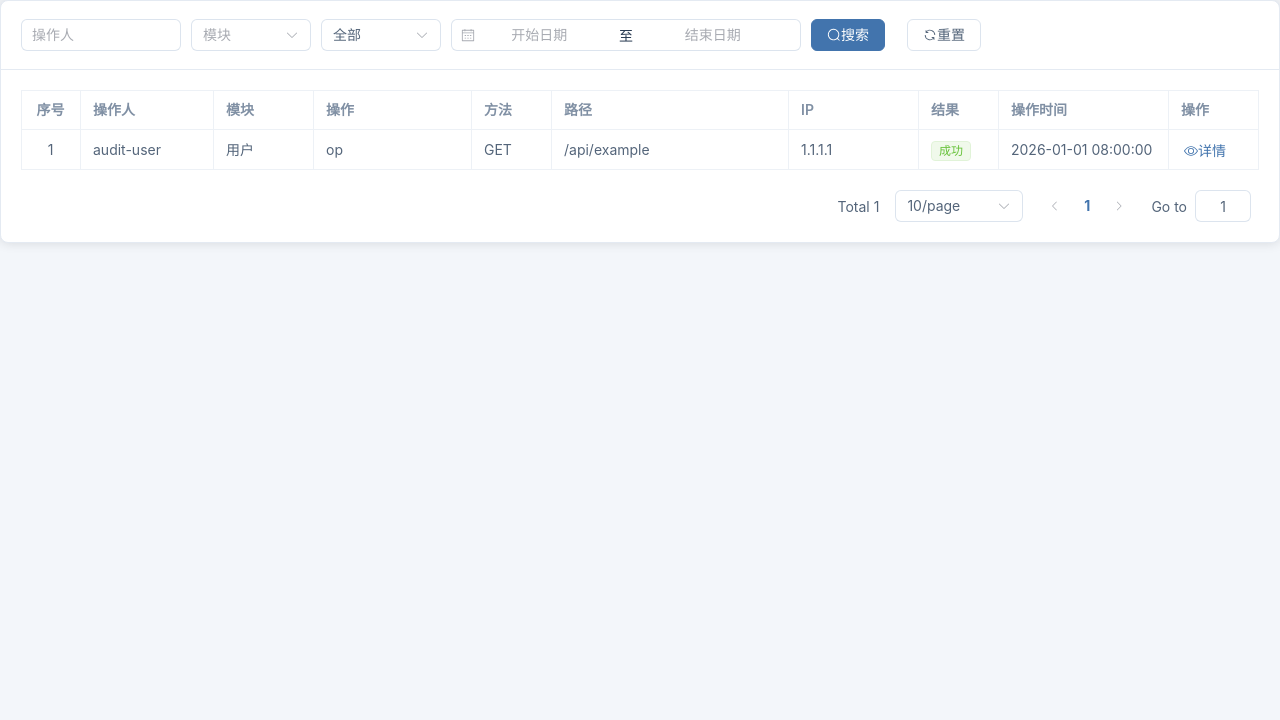
Scenario: OperationLog › 加载日志并在详情中显示具体 trace
What coordinates should you click on to do the following:
click the button "详情"
I would click on:
 (1205, 151)
Its box is [1181, 141, 1229, 161].
(page scrolled)
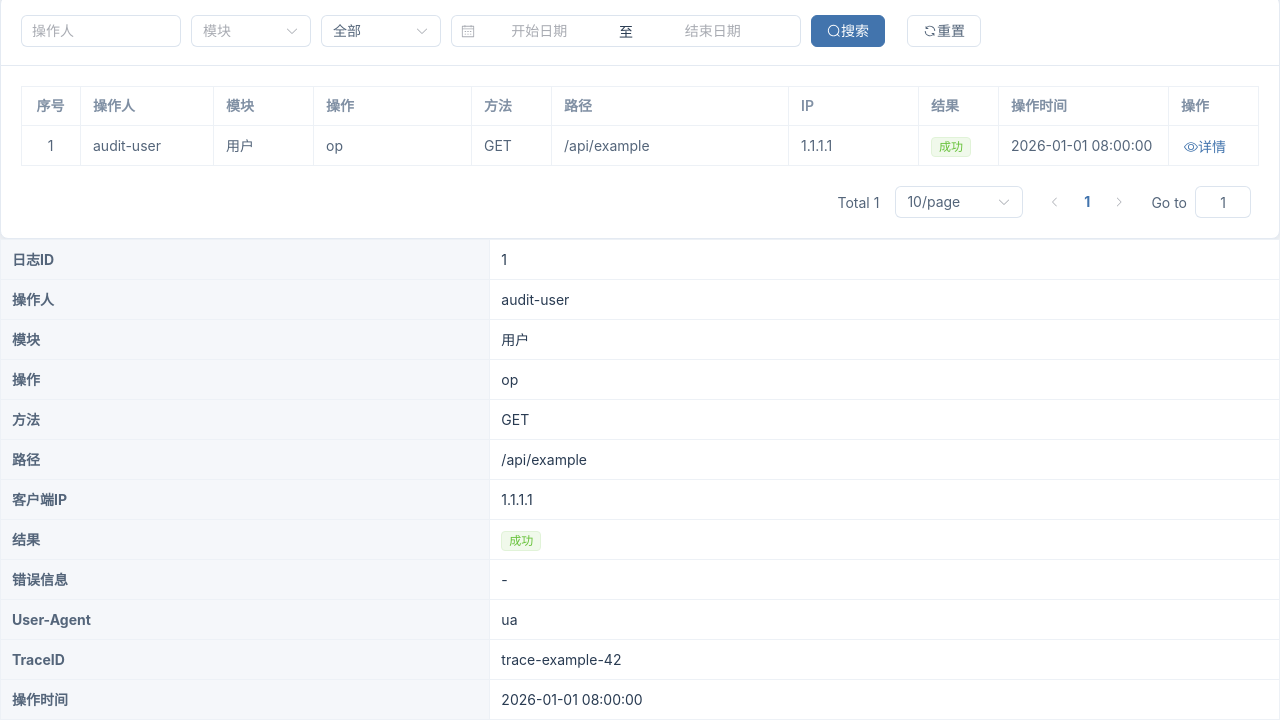
Expected: the element that starts with "日志ID" shows "trace-example-42", [501, 651, 622, 668]
